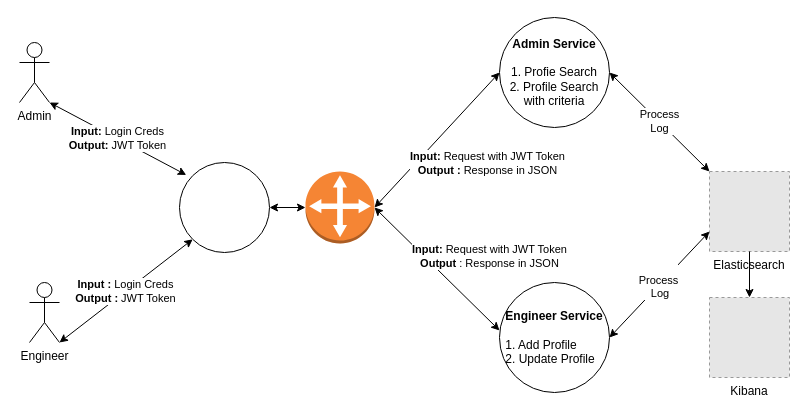
This 807x416 diagram has some shape labels left out. Grey dashed boxes stand in for pictures. The shapes that lost their labels are listed below. From the top down, each one's centre as x and y in pixels, then its label:
At [224,207]: "Authentication Service".
At [339,207]: "Ocelot Gateway".
